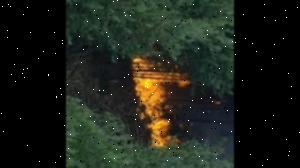fire: (126, 54, 192, 150)
